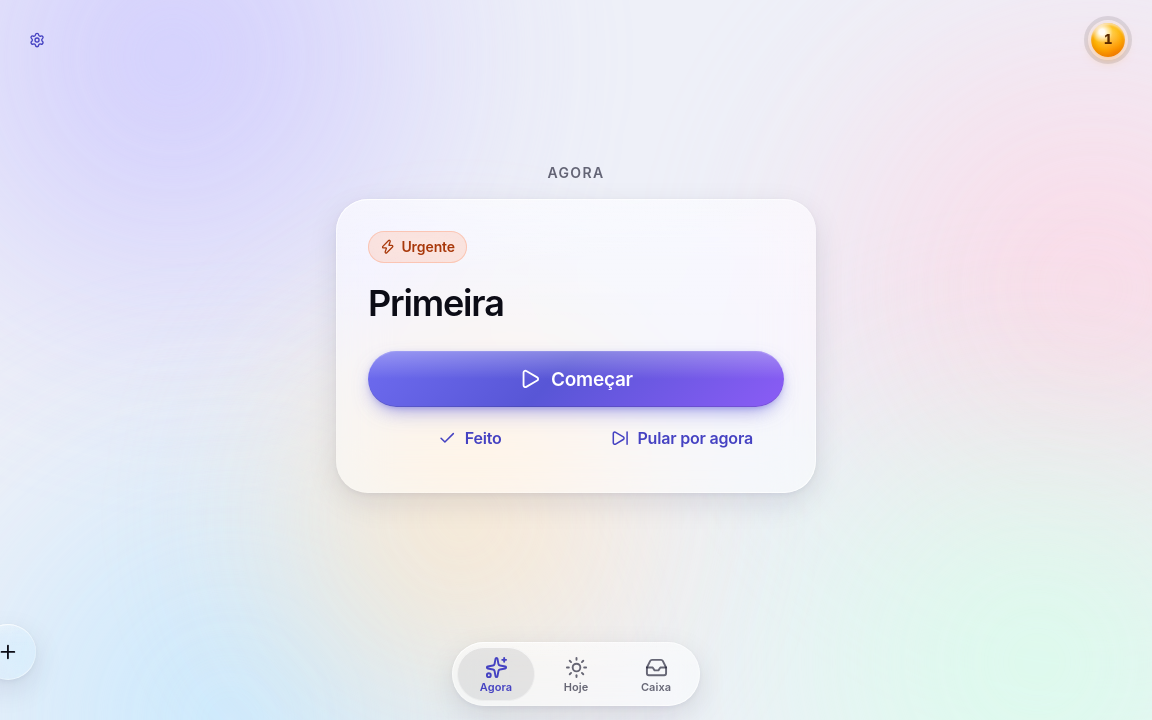
Test: Agora › após Feito, o foco do teclado vai pro Começar do próximo card
Click the button "Feito": coordinates (470, 438) [368,415,572,461]
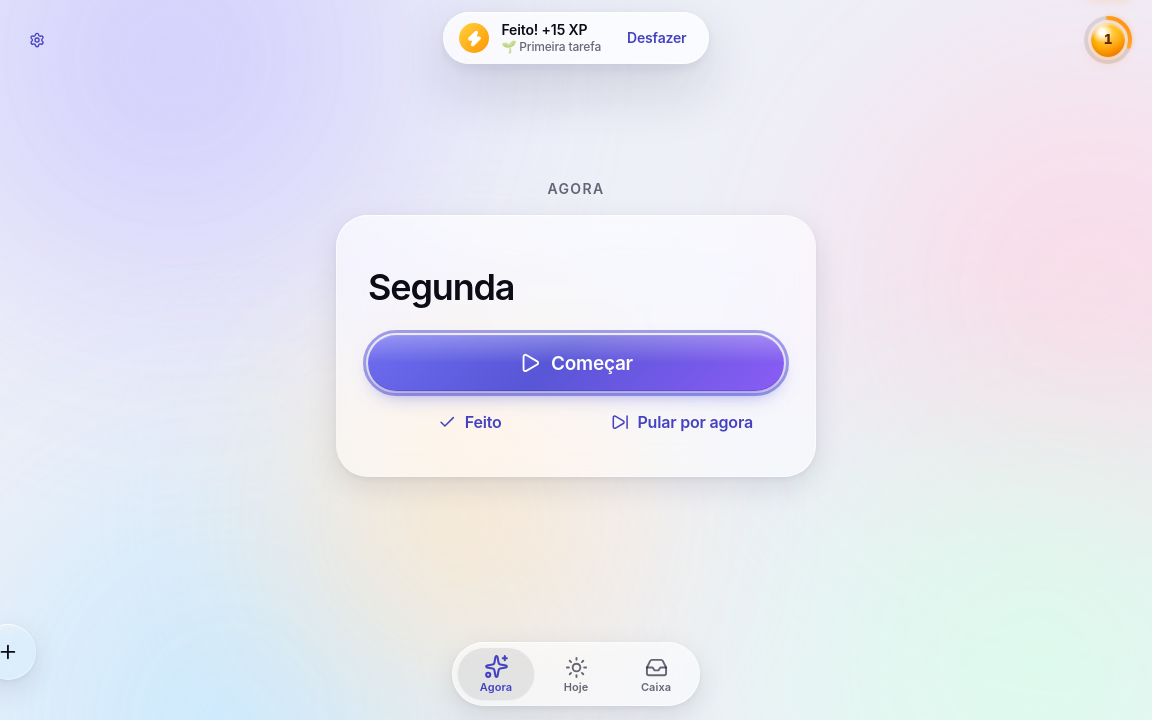
Expected: the button "Começar" is shown, [368,335,784,391]
Expected: the heading "Segunda" is shown, [368,265,514,309]
